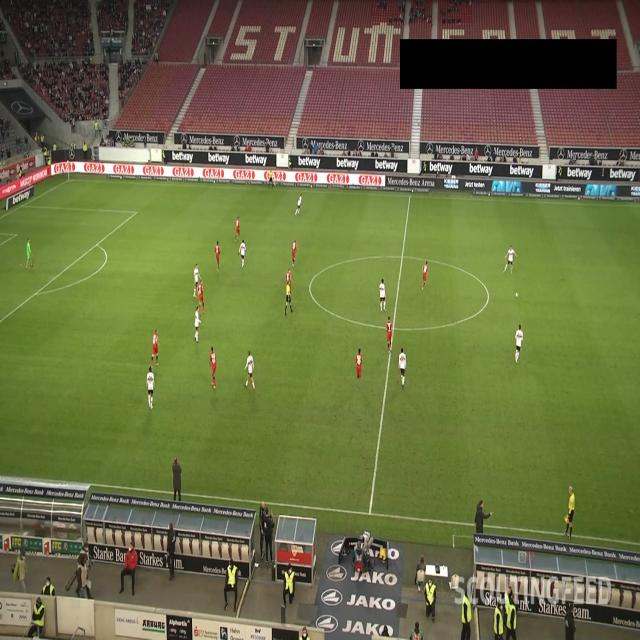ball: (515, 291, 519, 299)
